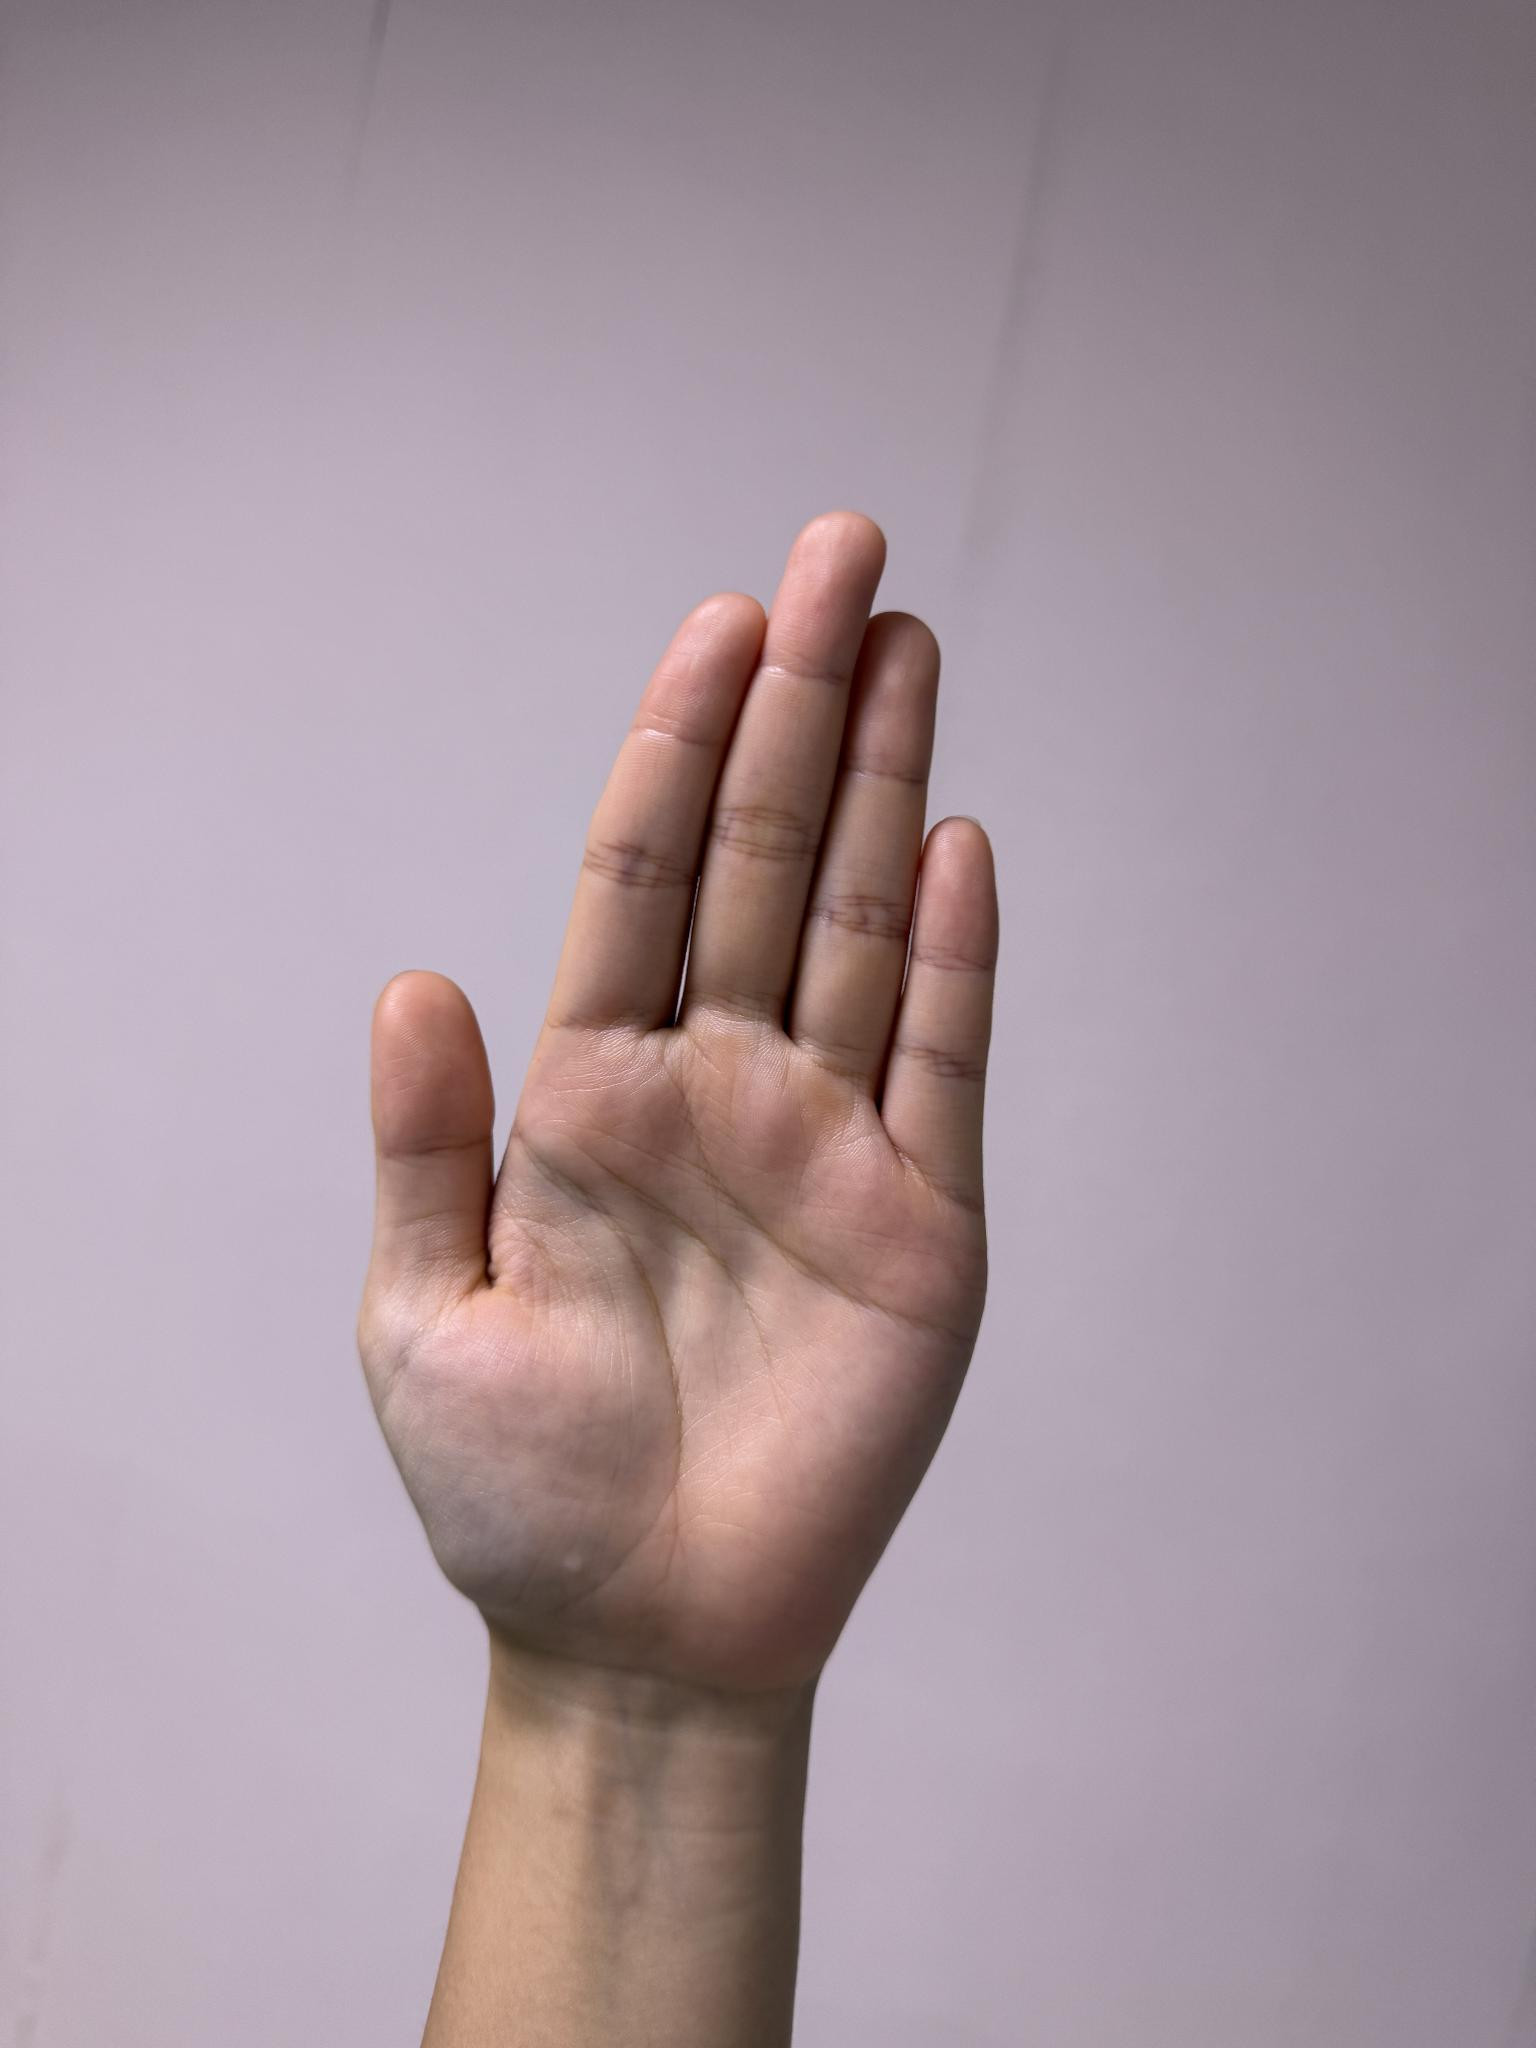open: (337, 503, 1012, 1740)
